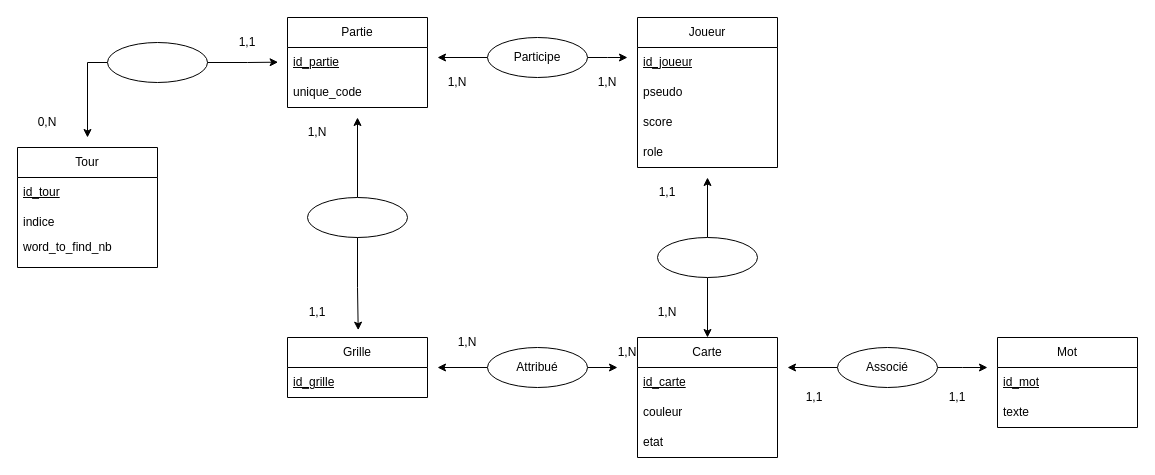
This 1155x475 diagram has some shape labels left out. Here are the shapes that lost their labels. From the top down, the box of each, then its label:
(106, 42, 208, 82): Caractérise
(306, 196, 408, 238): Utilise
(656, 236, 758, 278): Decouvre
